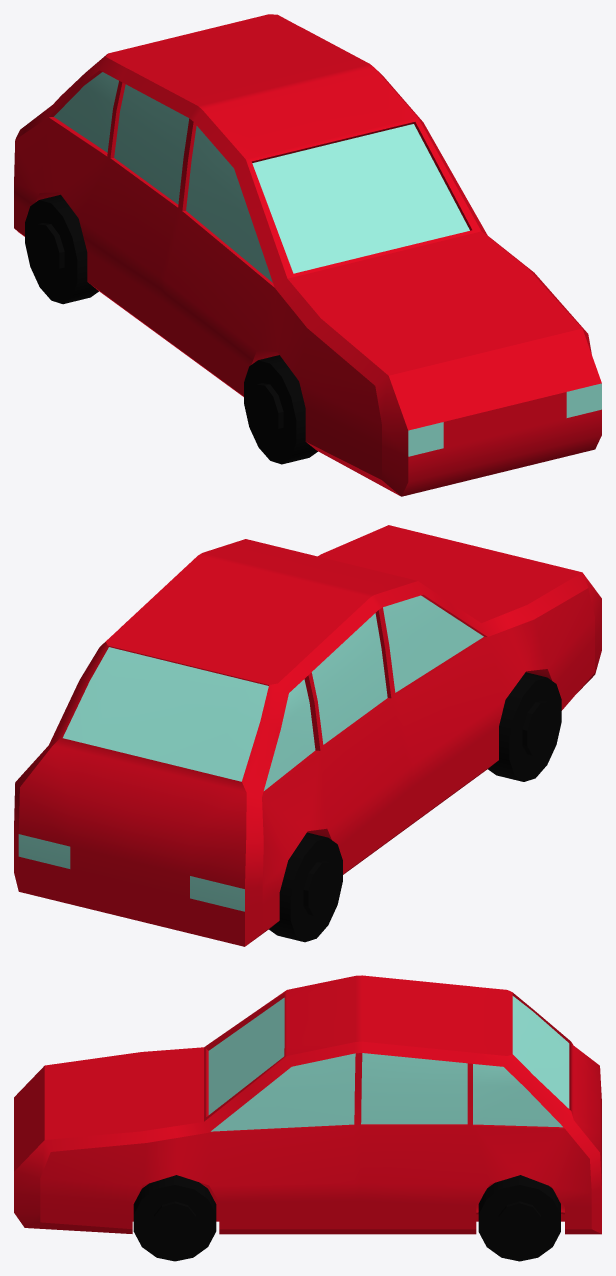
File: voiture.fbx
3 views of the same model, one above another, from view 1: azimuth 30°, elevation 25°; view 2: azimuth 150°, elevation 25°; view 3: azimuth 270°, elevation 25° (orthographic). The views are drawn at different scales.
Parts seen in each view (by area): view 1: Voiture, Pneu3_Jante, Pneu2_Pneu; view 2: Voiture, Pneu2_Pneu, Pneu3_Jante; view 3: Voiture, Pneu1_Jante, Pneu4_Jante.
Boxes of the visible parts, x1,y1,x2,y2 form: Voiture: [14, 14, 601, 496]; Pneu3_Jante: [25, 194, 98, 304]; Pneu2_Pneu: [244, 355, 317, 464]; Voiture: [14, 525, 601, 946]; Pneu2_Pneu: [488, 672, 561, 781]; Pneu3_Jante: [269, 832, 342, 942]; Voiture: [14, 975, 601, 1234]; Pneu1_Jante: [133, 1175, 216, 1261]; Pneu4_Jante: [478, 1175, 560, 1261].
Bounding box in the file's own units: 290 × 258 × 680.
